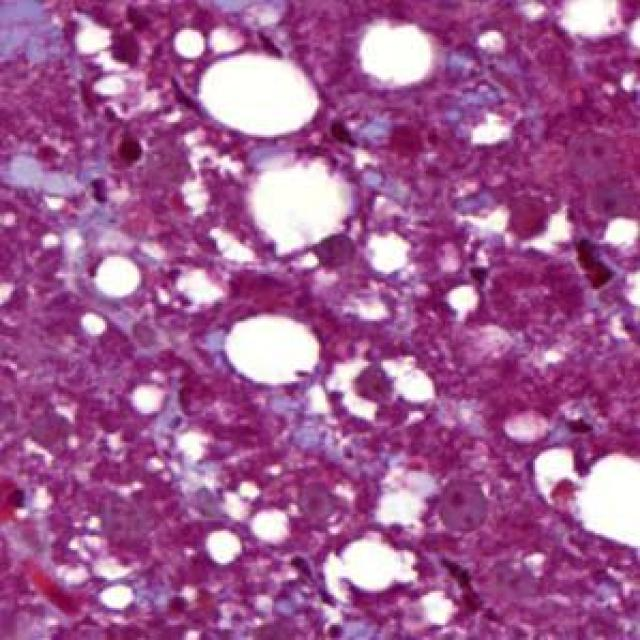steatosis: (201, 52, 321, 144), (220, 317, 332, 387)
